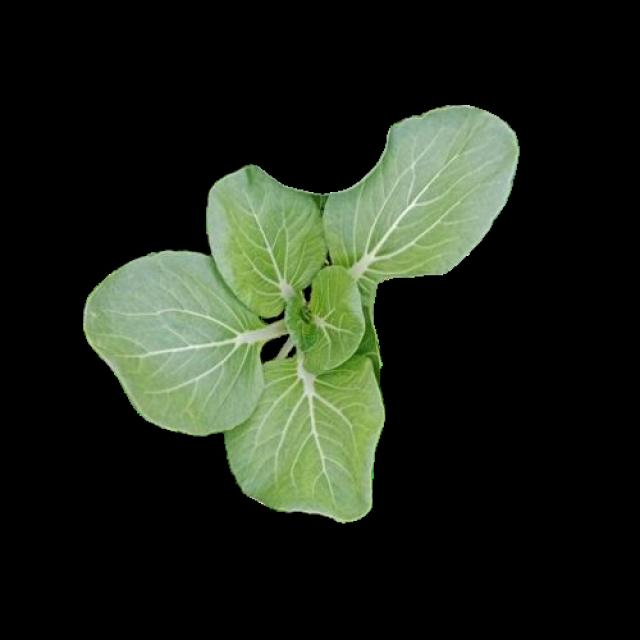healthy: (83, 104, 507, 516)
not-mature: (86, 106, 509, 518)
